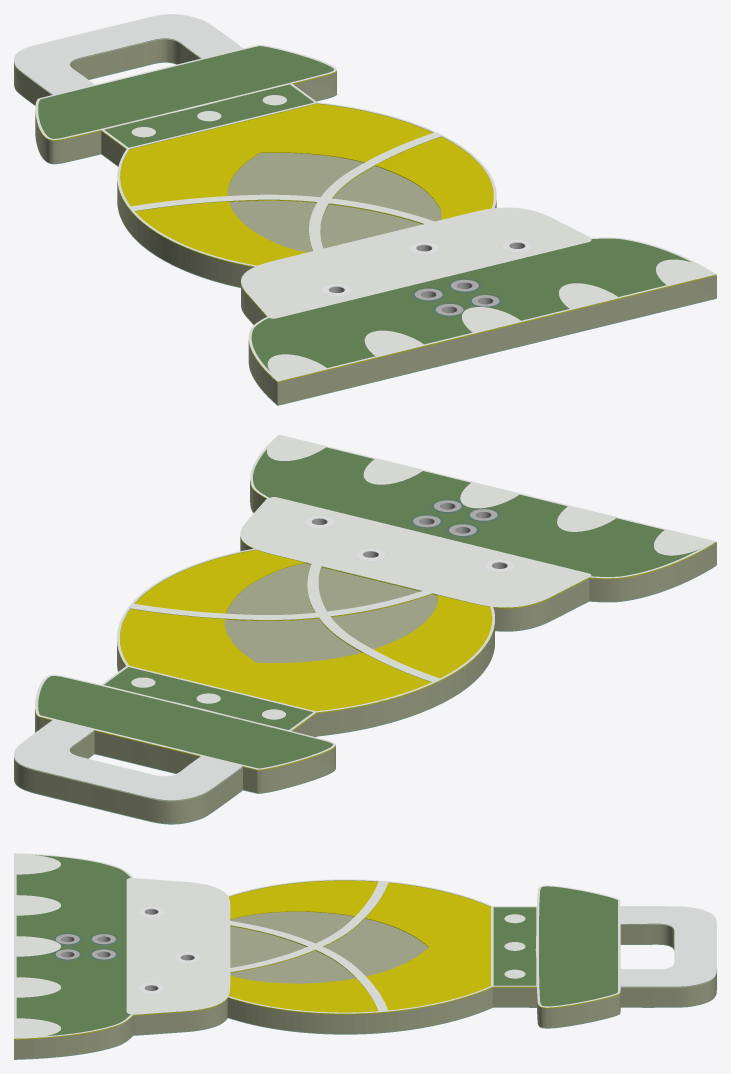
File: offzone-2024-lamp-add-on.glb
3 views of the same model, one above another, from view 1: azimuth 30°, elevation 25°; view 2: azimuth 150°, elevation 25°; view 3: azimuth 270°, elevation 25° (orthographic). The views are drawn at different scales.
Parts seen in each view (by area): view 1: =>[0:1:1:2], =>[0:1:1:6], =>[0:1:1:4], =>[0:1:1:8]; view 2: =>[0:1:1:2], =>[0:1:1:6], =>[0:1:1:4], =>[0:1:1:8]; view 3: =>[0:1:1:2], =>[0:1:1:6], =>[0:1:1:4], =>[0:1:1:8].
Boxes of the visible parts, <box> form: =>[0:1:1:2]: <box>36,46,716,382</box>; =>[0:1:1:6]: <box>14,38,716,405</box>; =>[0:1:1:4]: <box>14,14,716,381</box>; =>[0:1:1:8]: <box>14,38,716,404</box>; =>[0:1:1:2]: <box>35,448,716,770</box>; =>[0:1:1:6]: <box>14,447,716,824</box>; =>[0:1:1:4]: <box>14,434,716,800</box>; =>[0:1:1:8]: <box>14,481,716,823</box>; =>[0:1:1:2]: <box>14,856,620,1039</box>; =>[0:1:1:6]: <box>14,855,716,1059</box>; =>[0:1:1:4]: <box>14,853,716,1038</box>; =>[0:1:1:8]: <box>14,911,716,1059</box>.
Size of the model in its own units: 0.0309 by 0.00166 by 0.0494.
Materials: 4 (4 with a texture image).
